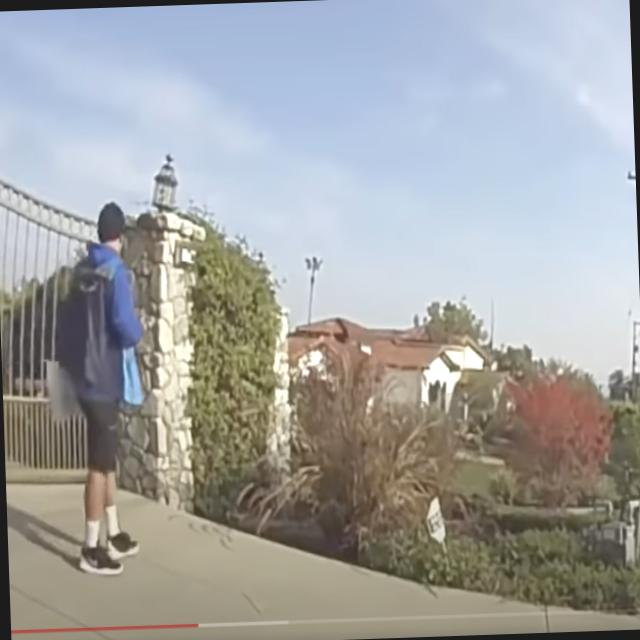person: (51, 202, 152, 577)
